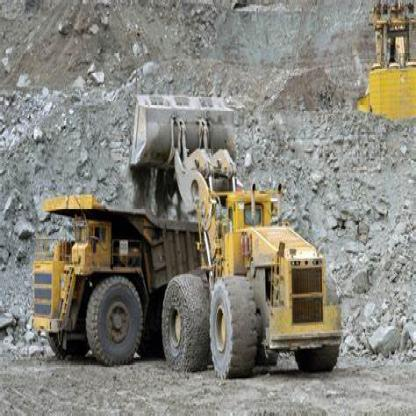bull_dozer/loader/grader: (129, 74, 348, 382)
